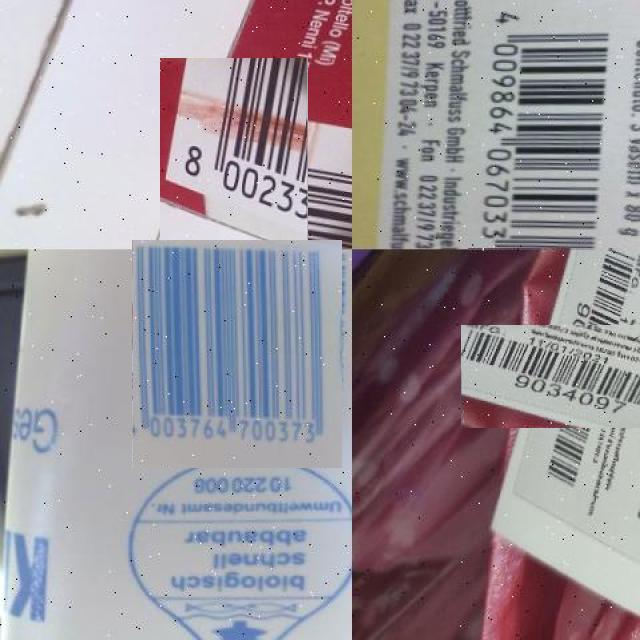Barcode: (128, 244, 347, 464), (468, 2, 631, 250), (138, 80, 330, 272), (498, 286, 640, 465)
